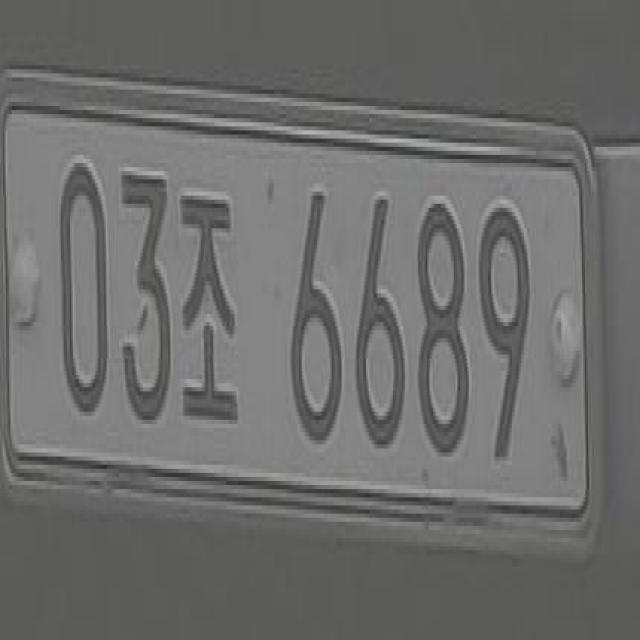illegal_plate: (8, 69, 606, 547)
